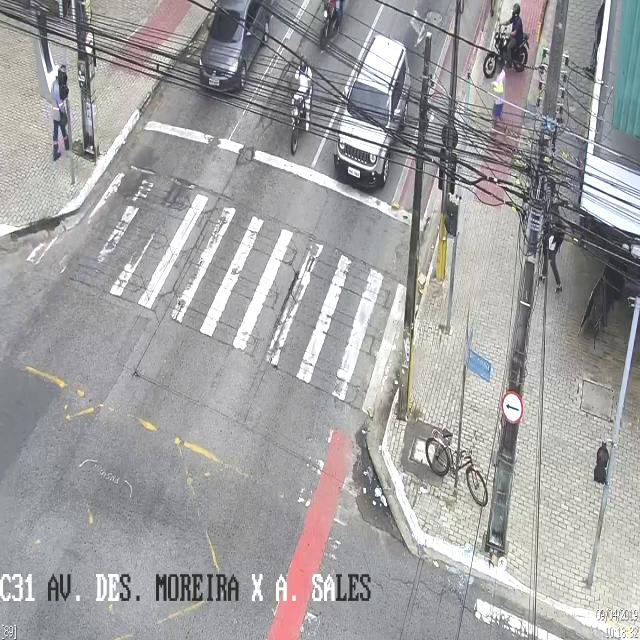Car: (334, 34, 412, 189), (202, 2, 270, 98)
Motorcycle: (482, 3, 530, 80), (290, 55, 313, 157), (318, 0, 345, 60)
